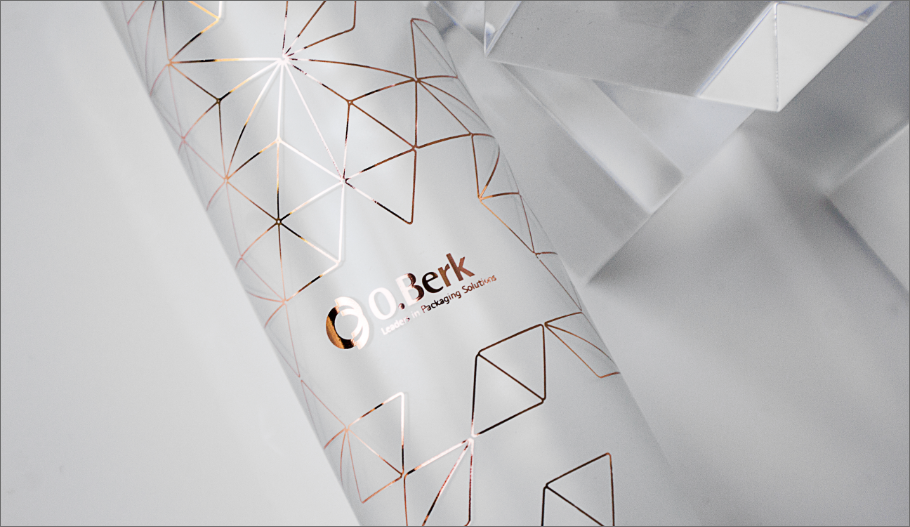plastic_bottle: (74, 2, 757, 527)
